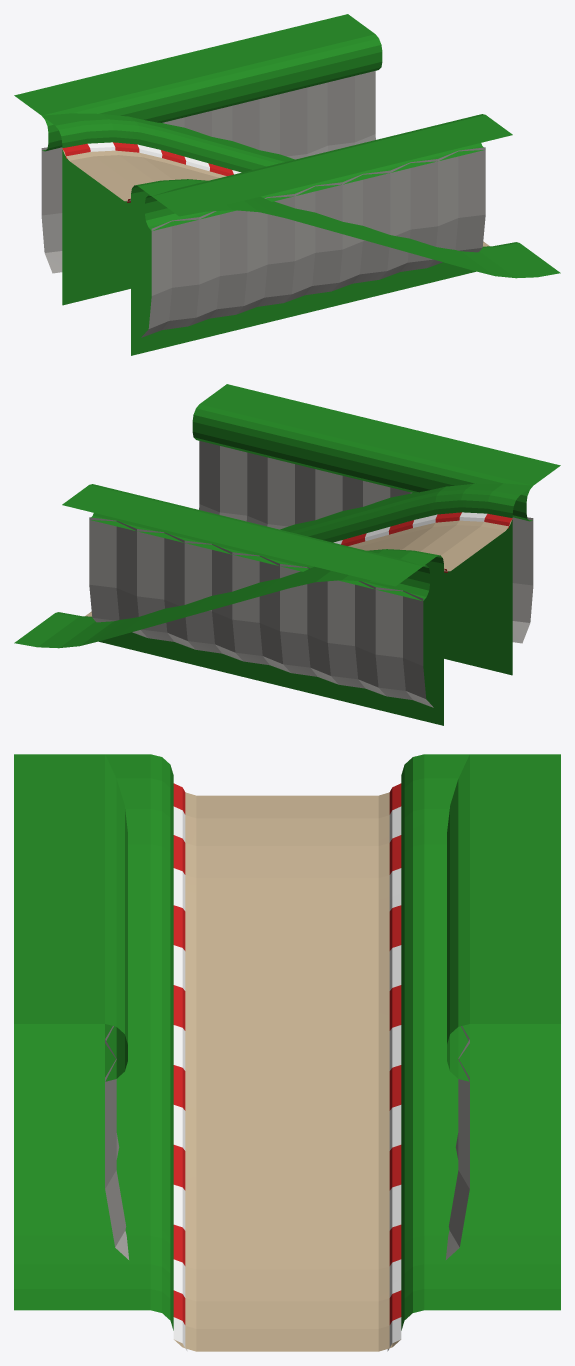
Rendered from Track_Cliff_Incline_Striped_3_Tall_Double.obj.
3 renders of one model, top to bottom at view 1: azimuth 30°, elevation 25°; view 2: azimuth 150°, elevation 25°; view 3: azimuth 270°, elevation 25°, orthographic. The views are drawn at different scales.
Parts seen in each view (by area): view 1: Grass, Rock, Dirt, Raceline_Color_2, Raceline_Color_1; view 2: Grass, Rock, Dirt, Raceline_Color_2, Raceline_Color_1; view 3: Grass, Dirt, Raceline_Color_1, Raceline_Color_2, Rock.
Part boxes in pixels (box(x1,y1,x2,y2)): Grass: box(14, 14, 560, 355); Rock: box(41, 71, 485, 337); Dirt: box(62, 149, 489, 246); Raceline_Color_2: box(62, 142, 233, 202); Raceline_Color_1: box(88, 142, 240, 174); Grass: box(14, 384, 560, 725); Rock: box(89, 441, 533, 707); Dirt: box(85, 519, 512, 616); Raceline_Color_2: box(341, 512, 512, 572); Raceline_Color_1: box(334, 512, 486, 544); Grass: box(14, 754, 560, 1330); Dirt: box(174, 792, 400, 1351); Raceline_Color_1: box(173, 806, 401, 1351); Raceline_Color_2: box(173, 783, 401, 1324); Rock: box(105, 1026, 469, 1259).
Bounding box in the file's own units: 8 × 3.5 × 6.
